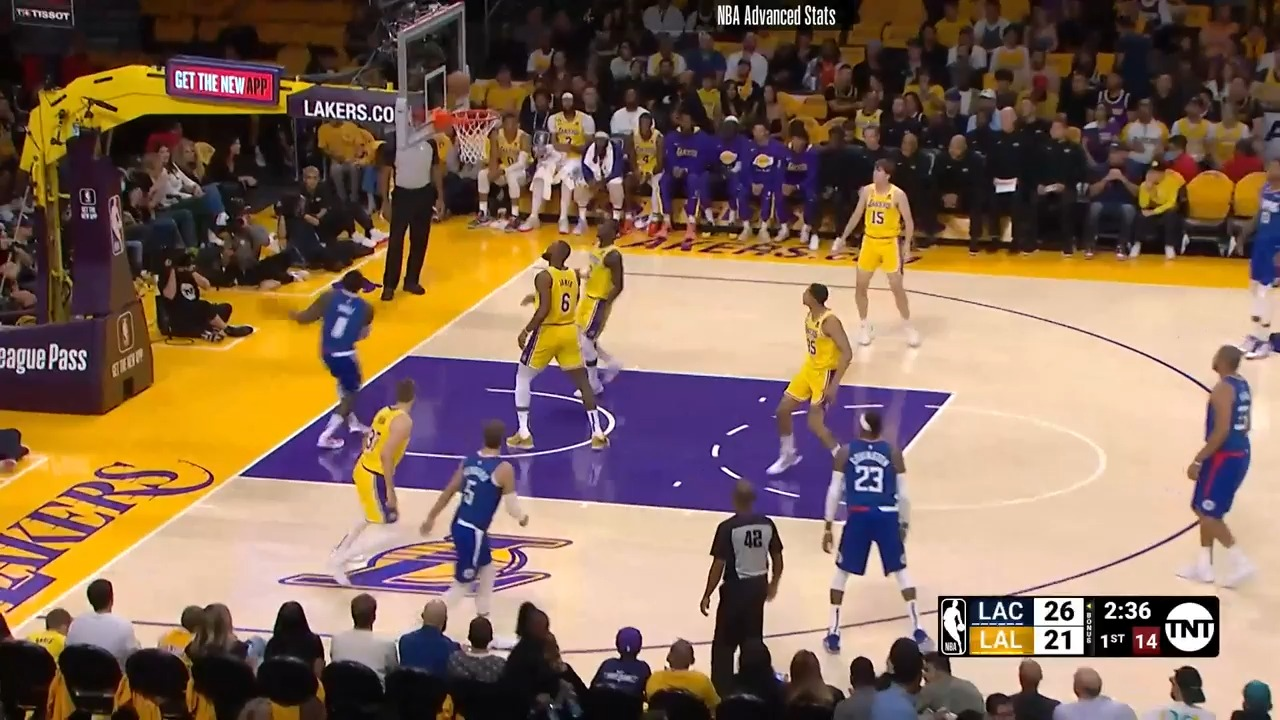net: (426, 100, 506, 160)
player: (821, 401, 924, 666), (1166, 341, 1265, 597), (510, 232, 620, 461), (411, 417, 530, 622), (331, 373, 438, 584), (769, 276, 866, 483), (295, 265, 388, 456), (840, 157, 920, 351), (1228, 148, 1280, 375), (570, 217, 630, 380)
referee: (694, 481, 786, 685), (376, 124, 444, 310)
